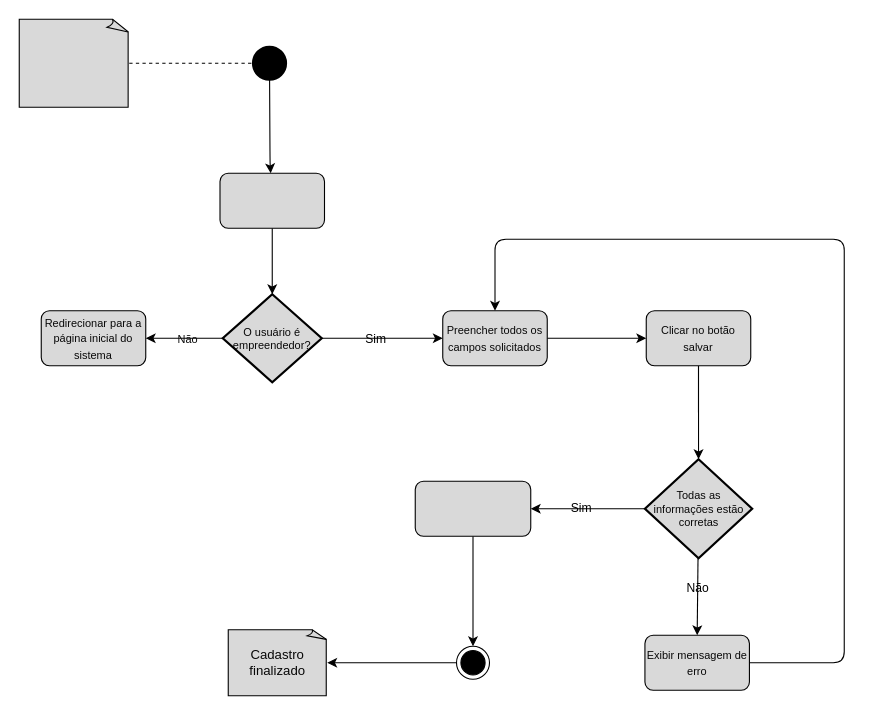
Image size: 872x715. Some labels were removed from this diagram. The box of each missing label's shape, as (x1, y1, x2, y2) in pixels:
Acessar a página de cadastro de MEIs: (219, 172, 324, 228)
Cadastrar MEI: (18, 18, 129, 107)
Exibir mensagem de sucesso e salvar MEI no banco de dados: (414, 480, 531, 536)
